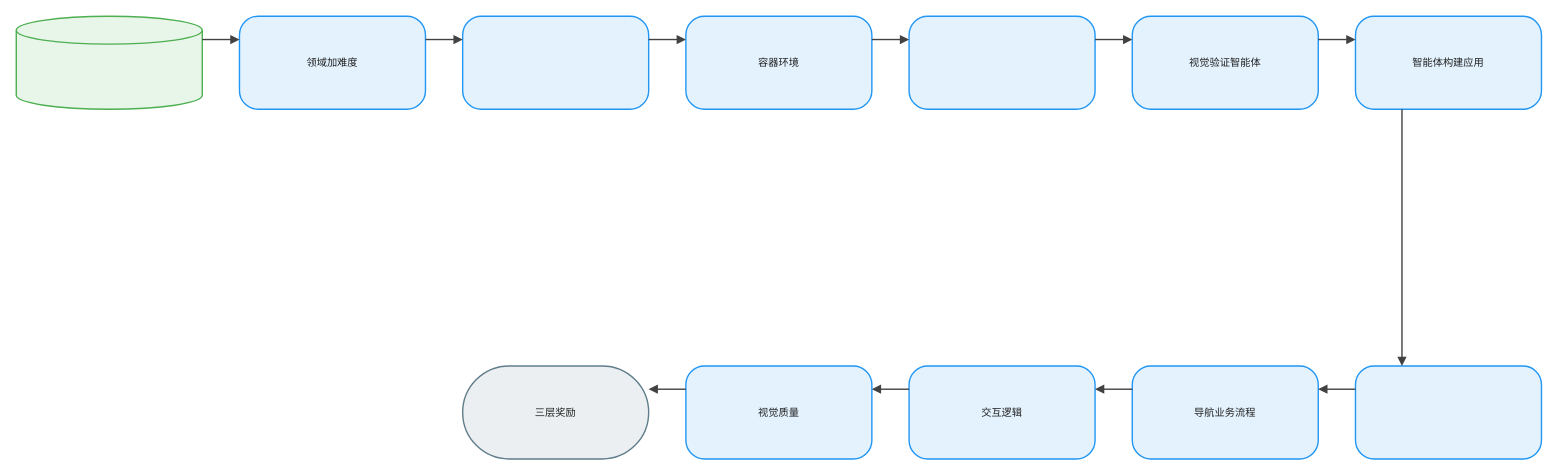
This 1559x476 diagram has some shape labels left out. Each missing label, with the centre of its shape:
200个应用规格: (x=109, y=62)
5种技术栈: (x=555, y=62)
三层评测: (x=1001, y=62)
编译构建启动: (x=1448, y=412)
